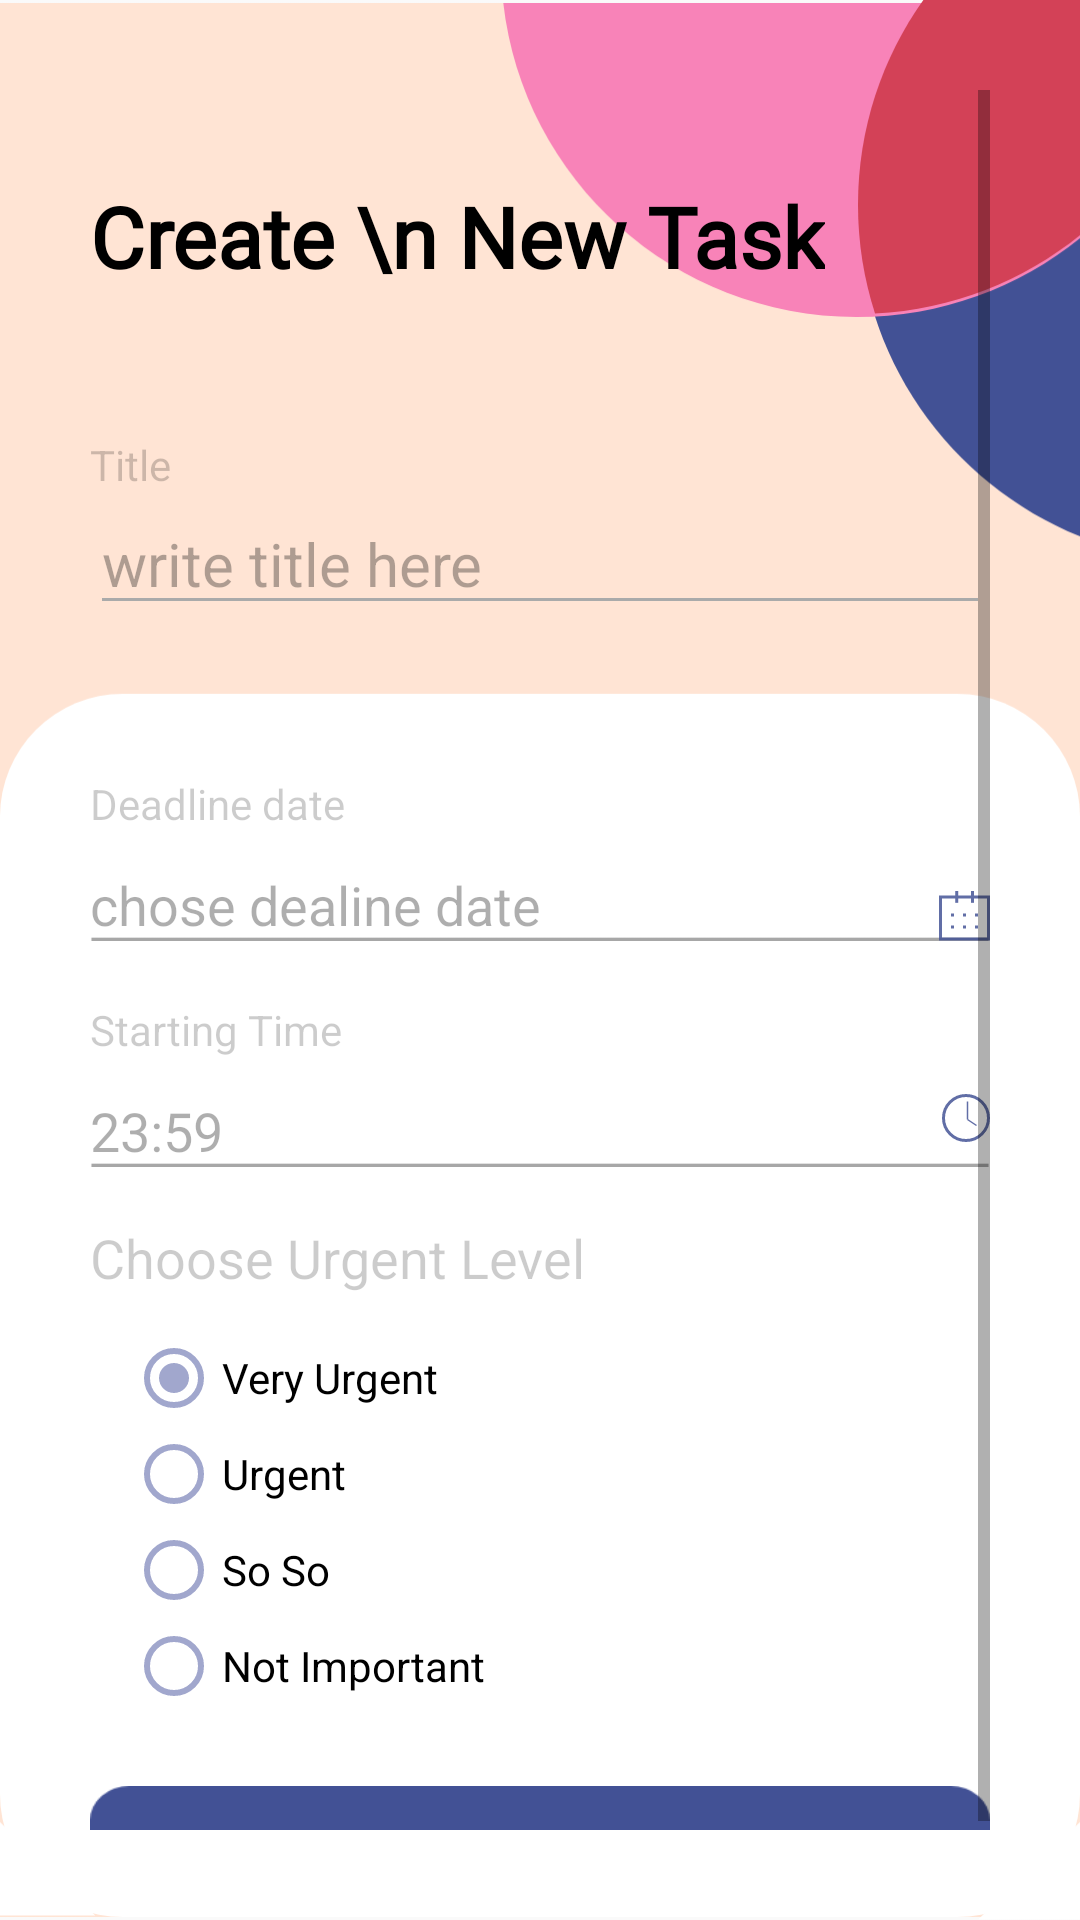

Screen size 1080 x 1920. Icon name, then its box in pixels as (x1, y1, x2, y2):
watch: (942, 1094, 990, 1142)
